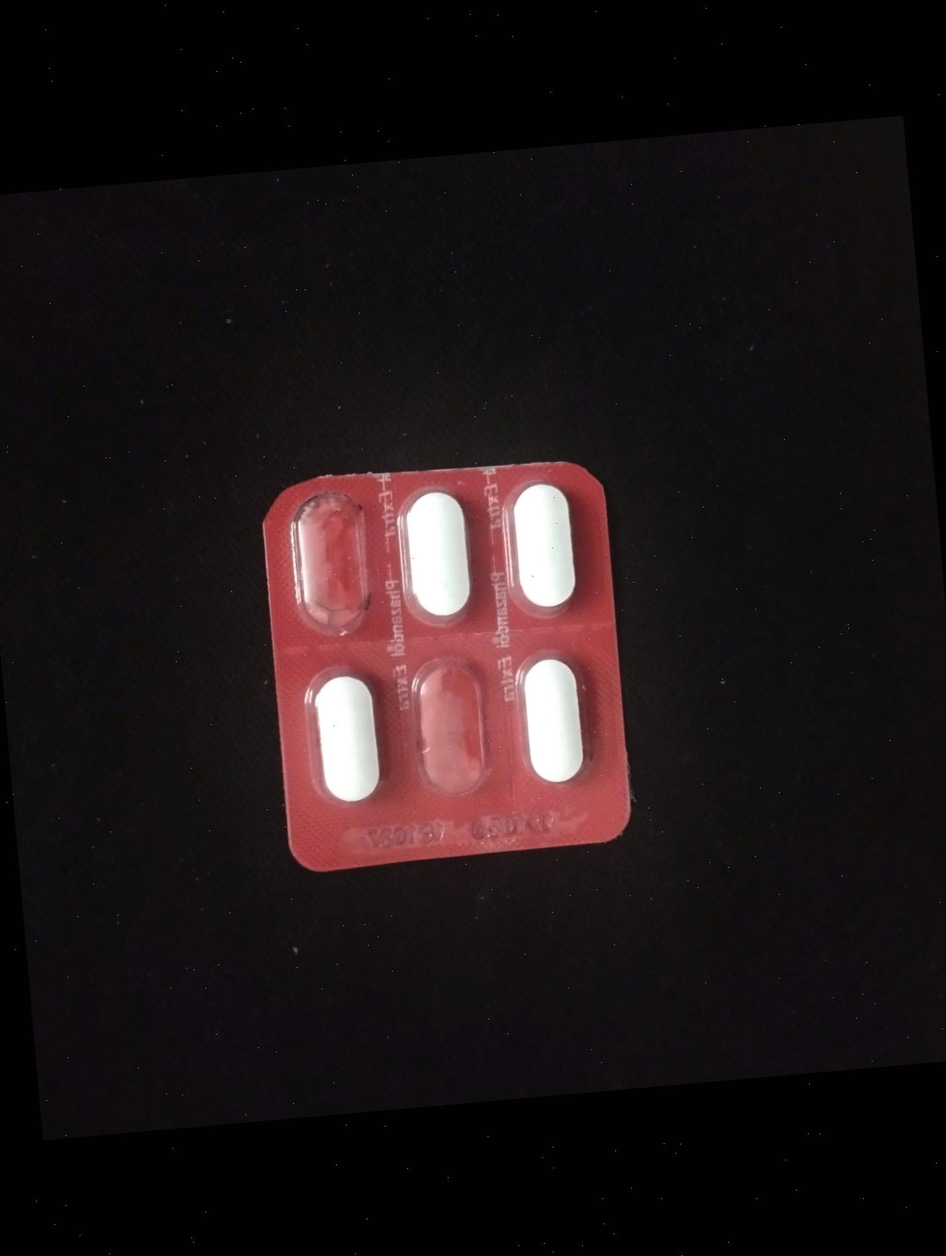Empty: (402, 654, 506, 815), (290, 493, 374, 634)
Full: (305, 666, 394, 813), (498, 472, 584, 623), (398, 489, 483, 635), (515, 646, 599, 787)
